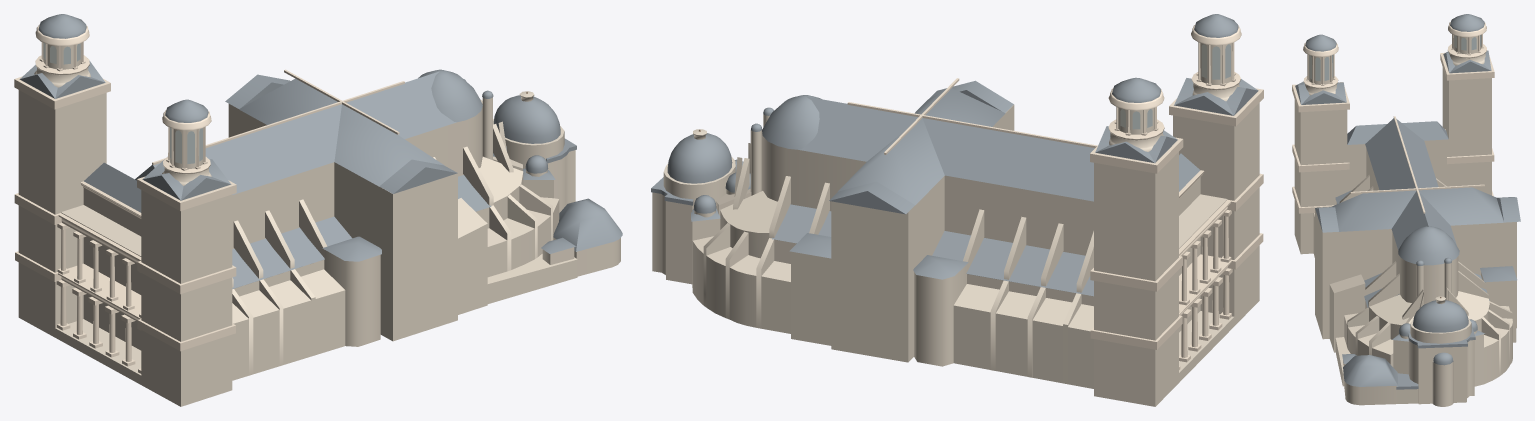
3 renders of one model, left to right at view 1: azimuth 30°, elevation 25°; view 2: azimuth 150°, elevation 25°; view 3: azimuth 270°, elevation 25°, orthographic. The views are drawn at different scales.
Visible parts, largest first — view 1: stone, roof, trim, window; view 2: stone, roof, trim, window; view 3: stone, roof, trim, window.
Part boxes in pixels (x1,y1,x2,y2): stone: [18, 42, 620, 406]; roof: [19, 14, 622, 288]; trim: [14, 24, 404, 373]; window: [43, 43, 202, 163]; stone: [652, 43, 1259, 406]; roof: [651, 14, 1258, 296]; trim: [847, 24, 1263, 369]; window: [1120, 44, 1230, 129]; stone: [1294, 34, 1516, 406]; roof: [1295, 14, 1520, 389]; trim: [1292, 22, 1494, 213]; window: [1309, 35, 1481, 81].
Size of the model in its own units: 126 by 70.3 by 66.16.
